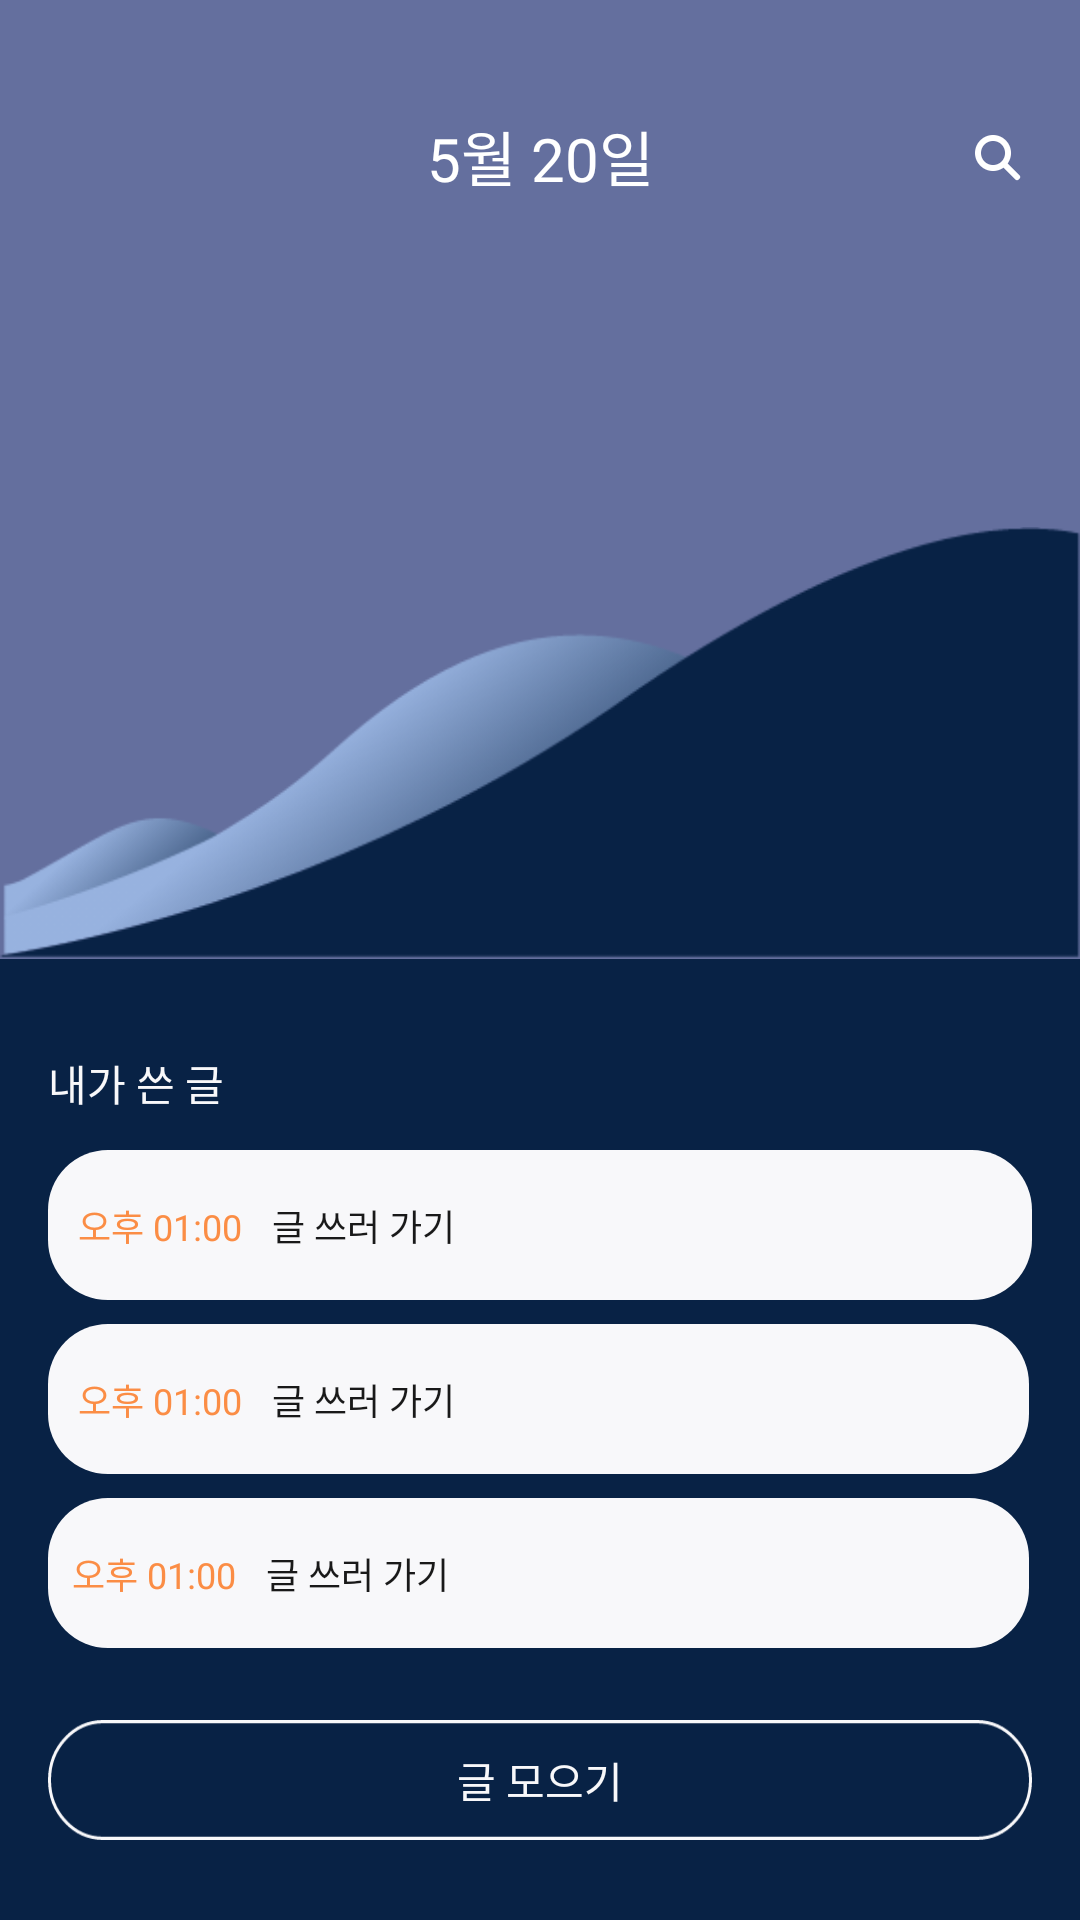

Screen size 1080 × 1920. Icon name, then its center in pixels as (x,y):
search: (997,157)
